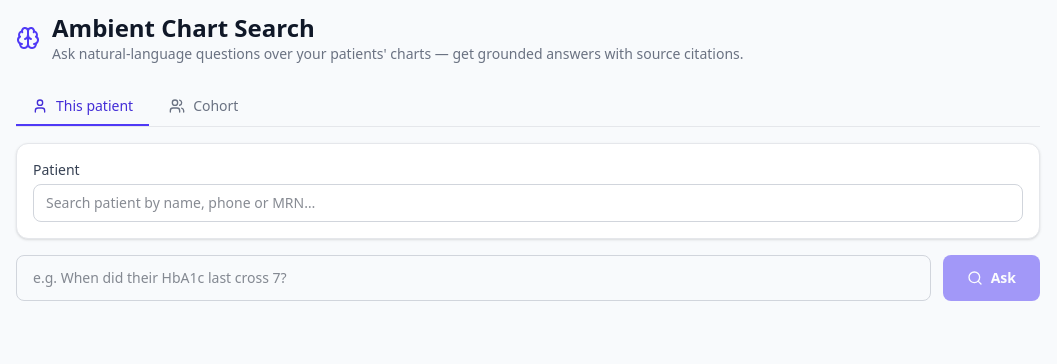
Test: Ambient Chart Search dashboard page › selecting a patient pins the picker chip and clears the search list
Type "Asha" into the field with placeholder "Search patient by name, phone or MRN…" at x=528, y=203, box [33,184,1023,222]
Wait 350 ms
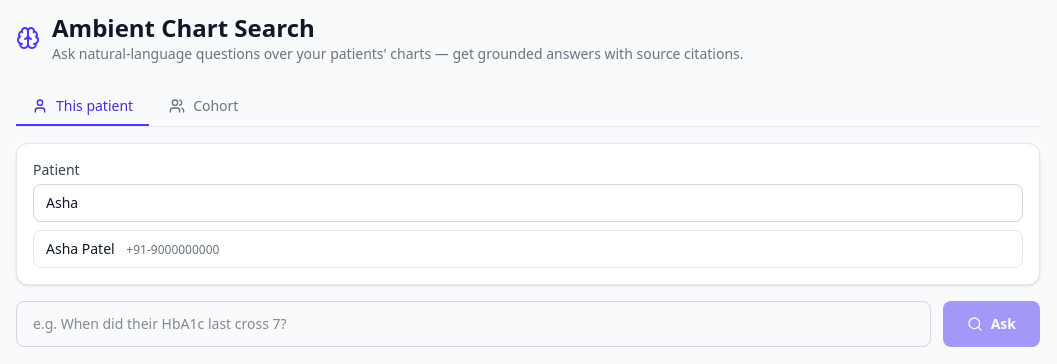
Click the button "Asha Patel +91-9000000000" at x=80, y=248, box [34,231,1022,267]
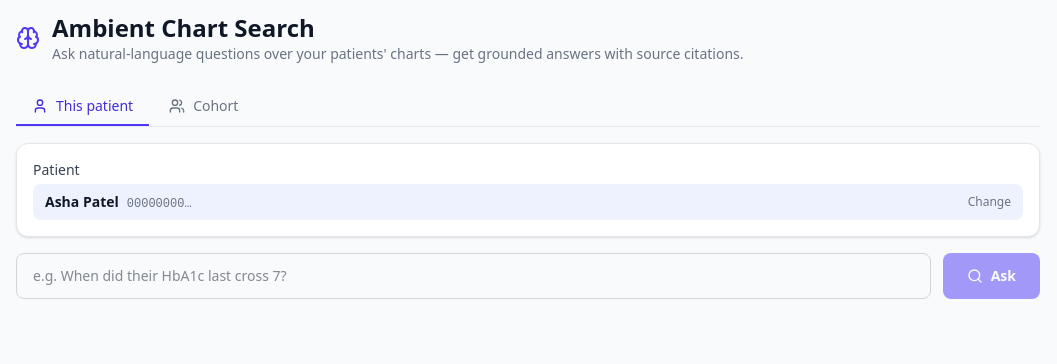
Result: the text "Asha Patel" is shown at [45,192,119,211]
Result: the text "00000000…" is shown at [127,197,192,211]
Result: the button "Change" is shown at [968,194,1011,210]
